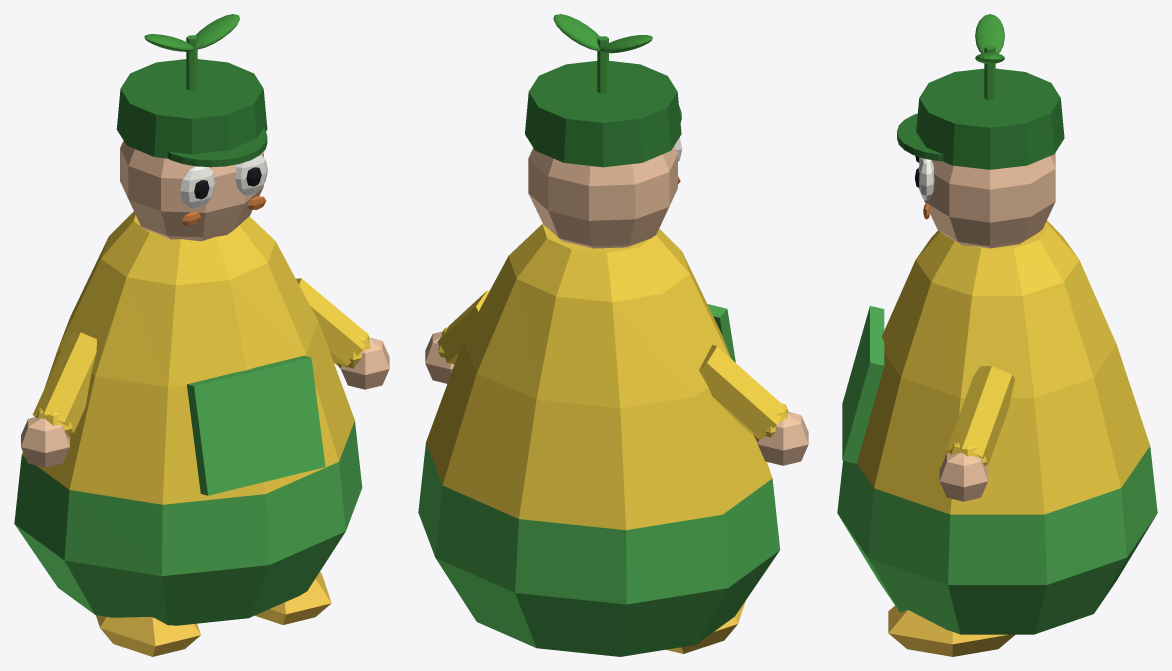
The model's file is npc_brotecito.glb.
The picture shows the model from 3 angles, left to right: view 1: azimuth 30°, elevation 25°; view 2: azimuth 150°, elevation 25°; view 3: azimuth 270°, elevation 25°; orthographic projection. The views are drawn at different scales.
Parts seen in each view (by area): view 1: body_brotecito_overalls, body_brotecito_shirt, hat_brotecito_cap, head_brotecito_skin, arms_brotecito_shirt, legs_brotecito_boots, arms_brotecito_skin, face_white, hat_plant_leaf (×2), hat_brotecito_stem; view 2: body_brotecito_shirt, body_brotecito_overalls, hat_brotecito_cap, head_brotecito_skin, arms_brotecito_shirt, arms_brotecito_skin, hat_plant_leaf (×2), legs_brotecito_boots, hat_brotecito_stem; view 3: body_brotecito_shirt, body_brotecito_overalls, hat_brotecito_cap, head_brotecito_skin, arms_brotecito_shirt, legs_brotecito_boots, arms_brotecito_skin, hat_plant_leaf, face_white, hat_brotecito_stem.
Part boxes in pixels (<box>): body_brotecito_overalls: <box>14,355,362,625</box>; body_brotecito_shirt: <box>22,211,354,504</box>; hat_brotecito_cap: <box>116,59,267,167</box>; head_brotecito_skin: <box>120,141,263,241</box>; arms_brotecito_shirt: <box>32,278,370,437</box>; legs_brotecito_boots: <box>96,572,331,656</box>; arms_brotecito_skin: <box>21,338,389,467</box>; face_white: <box>180,154,267,208</box>; hat_plant_leaf (×2): <box>144,14,239,51</box>; hat_brotecito_stem: <box>186,35,197,90</box>; body_brotecito_shirt: <box>426,223,772,530</box>; body_brotecito_overalls: <box>418,304,780,656</box>; hat_brotecito_cap: <box>525,61,681,167</box>; head_brotecito_skin: <box>528,146,677,248</box>; arms_brotecito_shirt: <box>437,290,788,441</box>; arms_brotecito_skin: <box>425,331,808,465</box>; hat_plant_leaf (×2): <box>553,14,652,53</box>; legs_brotecito_boots: <box>666,600,745,653</box>; hat_brotecito_stem: <box>597,36,608,93</box>; body_brotecito_shirt: <box>857,220,1149,514</box>; body_brotecito_overalls: <box>837,306,1157,634</box>; hat_brotecito_cap: <box>897,68,1064,169</box>; head_brotecito_skin: <box>924,153,1055,248</box>; arms_brotecito_shirt: <box>947,366,1014,466</box>; legs_brotecito_boots: <box>888,605,1015,656</box>; arms_brotecito_skin: <box>939,452,988,501</box>; hat_plant_leaf: <box>975,14,1004,53</box>; face_white: <box>918,157,934,200</box>; hat_brotecito_stem: <box>984,45,995,99</box>.
Bounding box in the file's own units: 1.13 × 1.72 × 0.86.
